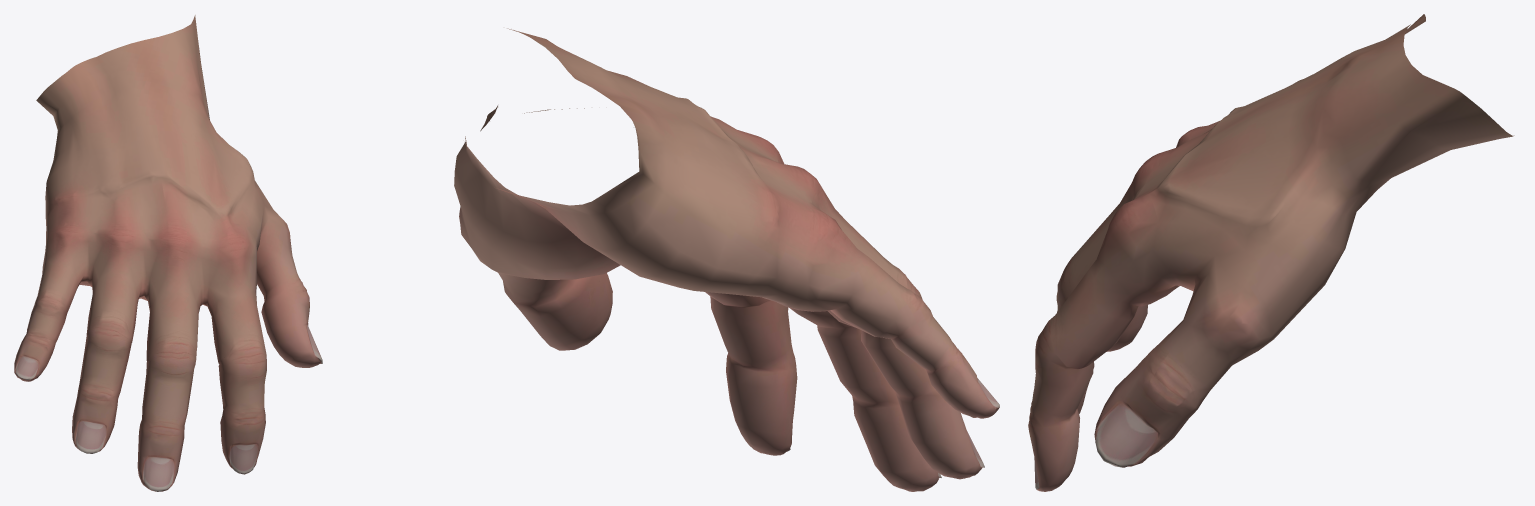
The picture shows the model from 3 angles, left to right: view 1: azimuth 30°, elevation 25°; view 2: azimuth 150°, elevation 25°; view 3: azimuth 270°, elevation 25°; orthographic projection. The views are drawn at different scales.
Parts seen in each view (by area): view 1: tripo_node_d63f1915-848a-4794-aa42-f1959cd110f0; view 2: tripo_node_d63f1915-848a-4794-aa42-f1959cd110f0; view 3: tripo_node_d63f1915-848a-4794-aa42-f1959cd110f0.
Boxes of the visible parts, x1,y1,x2,y2 form: tripo_node_d63f1915-848a-4794-aa42-f1959cd110f0: (14, 15, 322, 491); tripo_node_d63f1915-848a-4794-aa42-f1959cd110f0: (454, 28, 999, 491); tripo_node_d63f1915-848a-4794-aa42-f1959cd110f0: (1028, 14, 1514, 491).
Bounding box in the file's own units: 0.9082 × 0.998 × 0.9434.
1 material, 1 textured.
